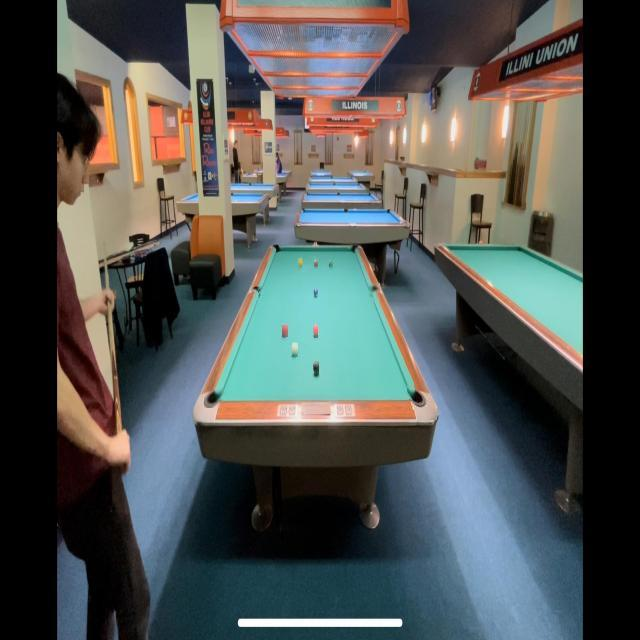Ball: (292, 343, 298, 357), (282, 325, 288, 337), (314, 361, 319, 375), (313, 286, 318, 298), (314, 324, 318, 338), (314, 257, 318, 269), (298, 258, 302, 269), (329, 259, 333, 269)
Pocket: (408, 385, 428, 410), (204, 390, 224, 408), (368, 284, 380, 302), (252, 286, 263, 298), (350, 243, 358, 254), (274, 243, 280, 253)
